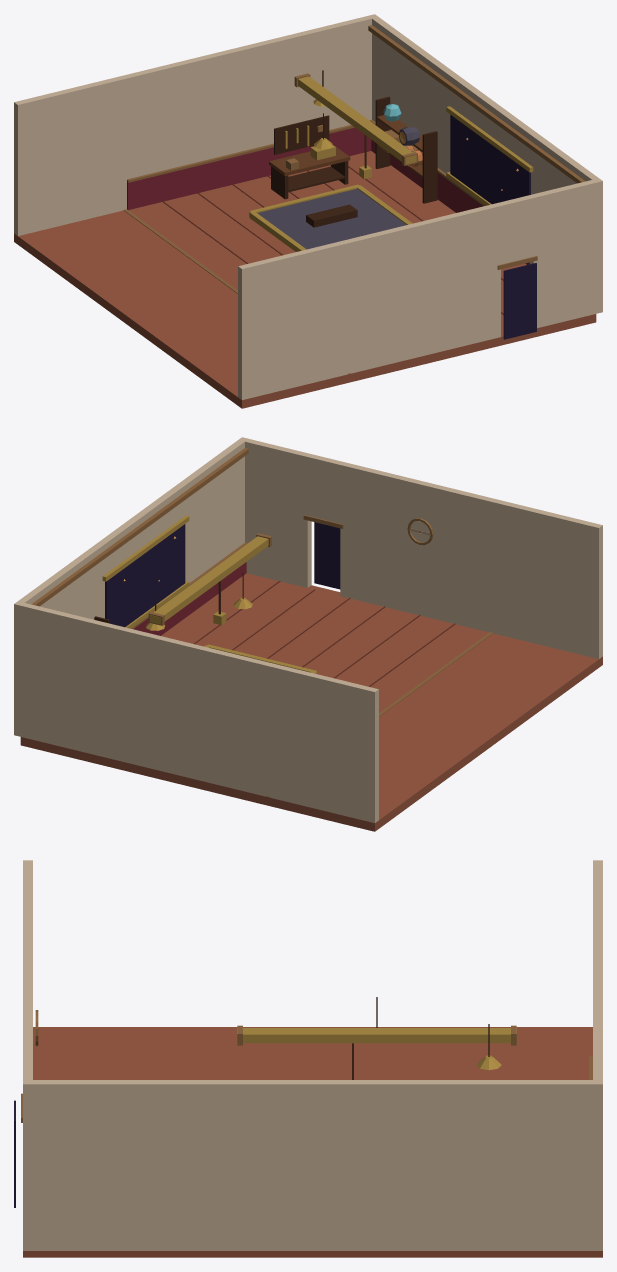
Rendered from kiln_cradle_room.gltf.
3 renders of one model, top to bottom at view 1: azimuth 30°, elevation 25°; view 2: azimuth 150°, elevation 25°; view 3: azimuth 270°, elevation 25°, orthographic. The views are drawn at different scales.
Parts seen in each view (by area): view 1: left_wall, right_wall, floor, back_wall, right_wall.2, left_dado, pad, bench, window, rack, doorway, hoist (+7 smaller); view 2: left_wall, floor, right_wall, back_wall, right_wall.2, window, hoist, lintel, back_cornice, doorway, back_dado, window_frame; view 3: back_wall, floor, hoist, left_wall, right_wall.
Part boxes in pixels (x1,y1,x2,y2): left_wall: (14, 16, 371, 235); right_wall: (238, 203, 500, 400); floor: (14, 151, 596, 408); back_wall: (368, 14, 602, 313); right_wall.2: (529, 180, 596, 328); left_dado: (127, 127, 371, 209); pad: (257, 189, 406, 249); bench: (269, 115, 350, 199); window: (450, 115, 530, 204); rack: (375, 96, 437, 203); doorway: (503, 263, 536, 339); hoist: (294, 73, 417, 165); left_wall: (20, 603, 378, 823); floor: (20, 573, 602, 831); right_wall: (340, 462, 602, 658); back_wall: (14, 437, 248, 736); right_wall.2: (245, 439, 311, 587); window: (105, 524, 185, 627); hoist: (148, 533, 271, 625); lintel: (307, 454, 343, 523); back_cornice: (31, 448, 248, 606); doorway: (314, 522, 340, 589); back_dado: (133, 562, 246, 635); window_frame: (102, 515, 189, 581); back_wall: (23, 1080, 602, 1250); floor: (23, 1027, 602, 1257); hoist: (237, 1025, 516, 1045); left_wall: (593, 860, 602, 1079); right_wall: (23, 860, 32, 1020).
Bounding box in the file's own units: 13.25 × 4.9 × 14.72.
